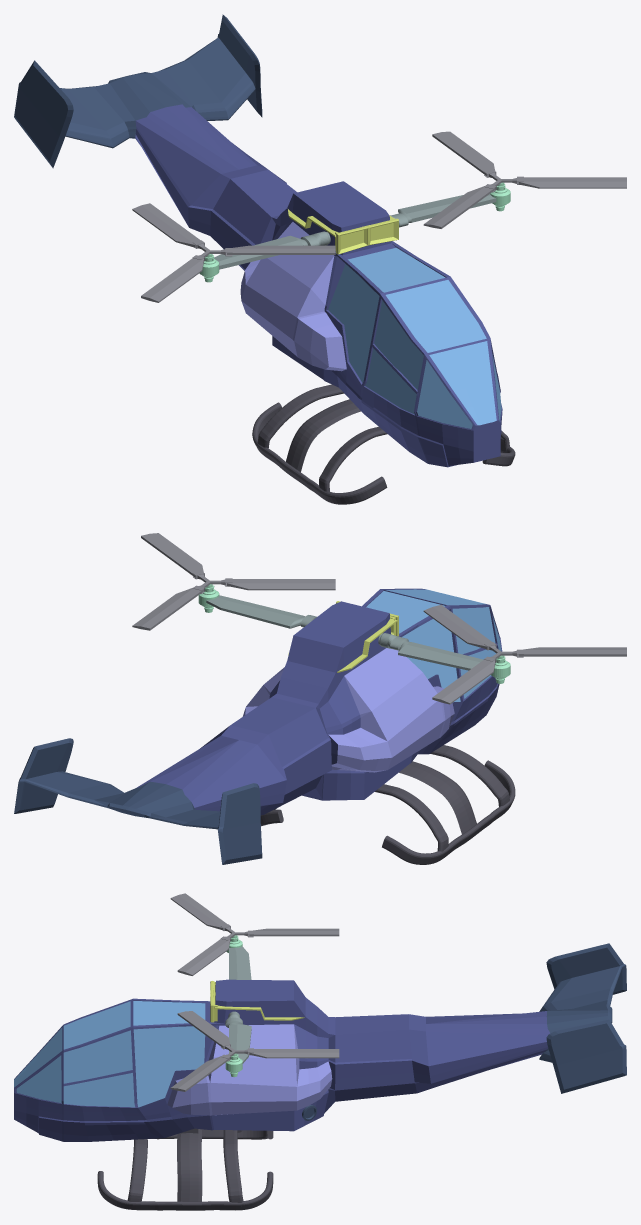
The model's file is Helikopter_broken_2.fbx.
3 renders of one model, top to bottom at view 1: azimuth 30°, elevation 25°; view 2: azimuth 150°, elevation 25°; view 3: azimuth 270°, elevation 25°, orthographic. The views are drawn at different scales.
Parts seen in each view (by area): view 1: Cube, Cube.004, BezierCurve, KriloOtpalo, Elisa2, Elisa1, Cube.001, Cube.005, Cylinder.001; view 2: Cube, BezierCurve, Cube.004, KriloOtpalo, Elisa2, Elisa1, Cube.001, Cylinder.001, Cube.005; view 3: Cube, Cube.004, BezierCurve, KriloOtpalo, Elisa2, Elisa1, Cube.001, Cube.005.
Part boxes in pixels (x1,y1,x2,y2): Cube: (14, 60, 502, 467); Cube.004: (328, 247, 501, 428); BezierCurve: (252, 384, 515, 504); KriloOtpalo: (151, 14, 262, 120); Elisa2: (132, 203, 335, 302); Elisa1: (423, 131, 626, 228); Cube.001: (214, 194, 496, 269); Cube.005: (288, 209, 398, 254); Cylinder.001: (199, 182, 510, 282); Cube: (107, 588, 502, 864); BezierCurve: (260, 745, 515, 864); Cube.004: (366, 589, 501, 702); KriloOtpalo: (14, 738, 133, 813); Elisa2: (423, 604, 626, 704); Elisa1: (132, 533, 335, 630); Cube.001: (206, 595, 483, 670); Cylinder.001: (198, 584, 510, 683); Cube.005: (288, 601, 398, 672); Cube: (14, 943, 626, 1141); Cube.004: (14, 1001, 205, 1107); BezierCurve: (97, 1128, 273, 1210); KriloOtpalo: (539, 1019, 626, 1093); Elisa2: (170, 893, 339, 975); Elisa1: (170, 1011, 339, 1091); Cube.001: (225, 946, 251, 1063); Cube.005: (210, 981, 304, 1022).
Size of the model in its own units: 1302 by 596 by 1712.
